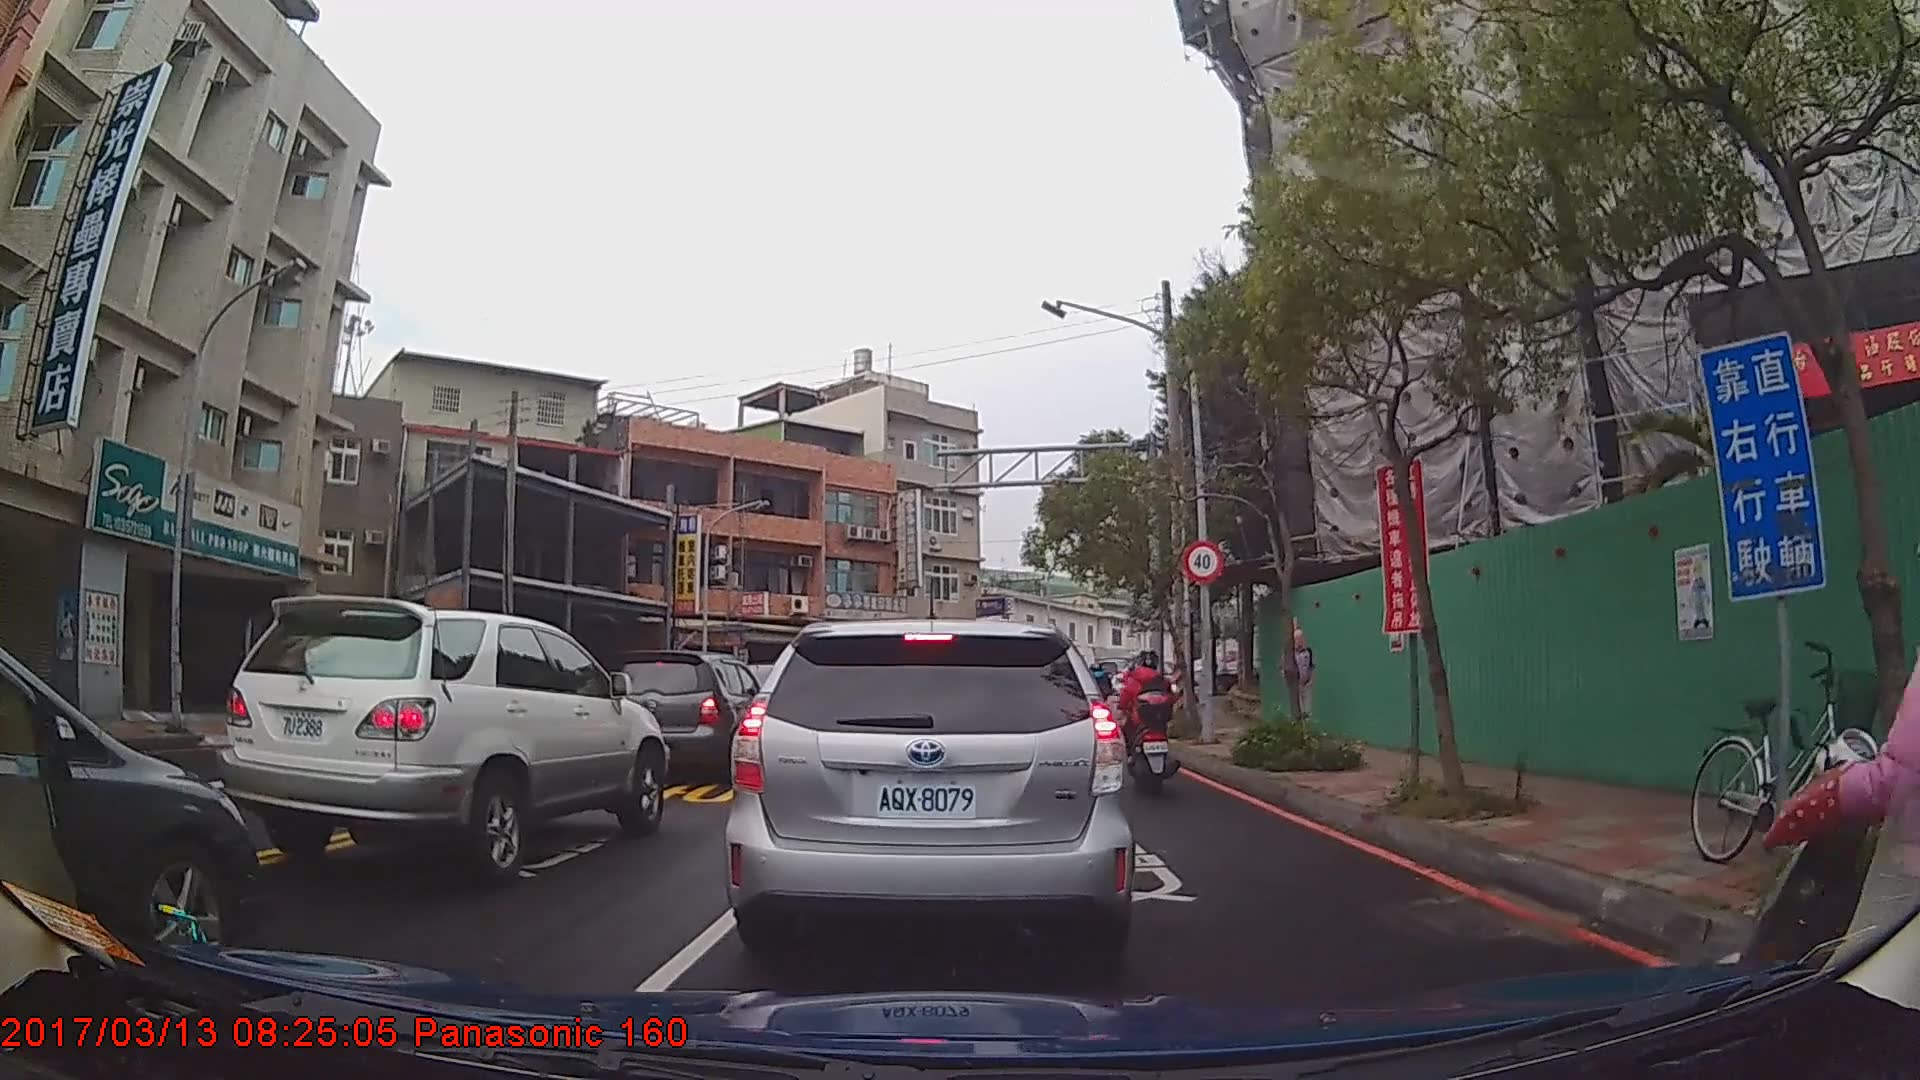pedestrian: (1281, 630, 1322, 743)
rider: (1739, 518, 1920, 1080), (1121, 650, 1178, 794)
vehicle: (724, 619, 1138, 972), (218, 592, 671, 889), (0, 639, 258, 968), (597, 650, 768, 778)
